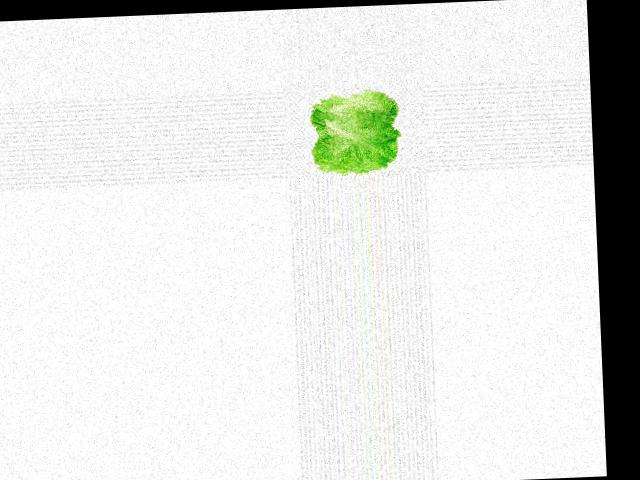lettuce: (303, 85, 408, 178)
